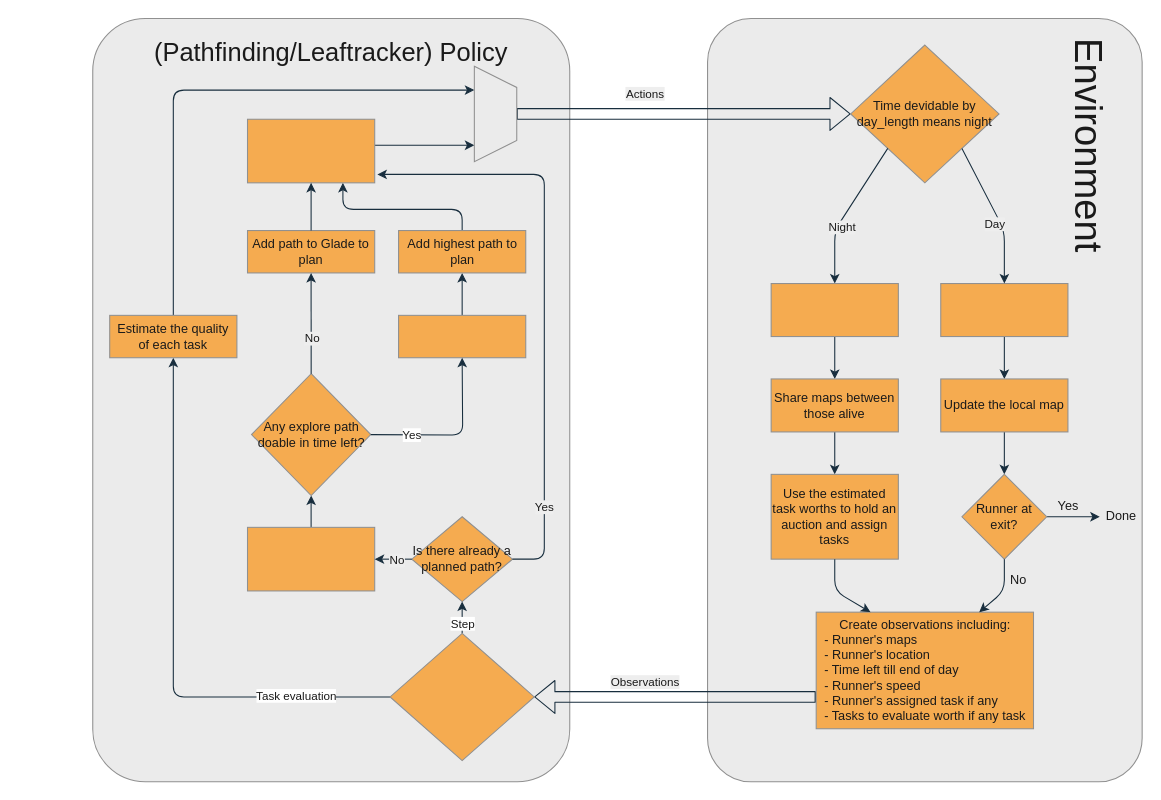
This 1161x800 diagram has some shape labels left out. The centre of each missing label's shape, as x and y in pixels:
Estimate the quality of doing each path: the point at 462,336
Find paths to the edge of what's explored: the point at 310,558
Follow step from planned path: the point at 310,150
Is it time for step or task evaluation?: the point at 461,696
Kill those still in the maze: the point at 834,309
Take a step: the point at 1004,309
